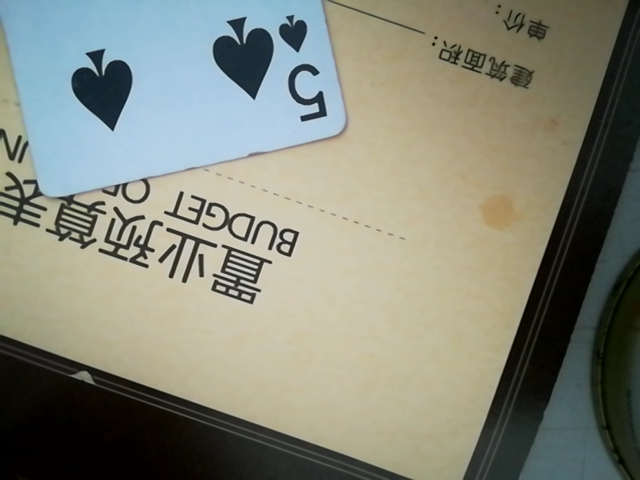ht 5: (1, 0, 350, 211)
